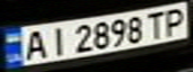2: (69, 20, 93, 54)
8: (124, 12, 148, 44), (90, 19, 112, 51)
9: (109, 16, 130, 47)
A: (18, 27, 51, 61)
I: (42, 25, 69, 56)
P: (160, 4, 193, 37)
T: (142, 9, 169, 38)
